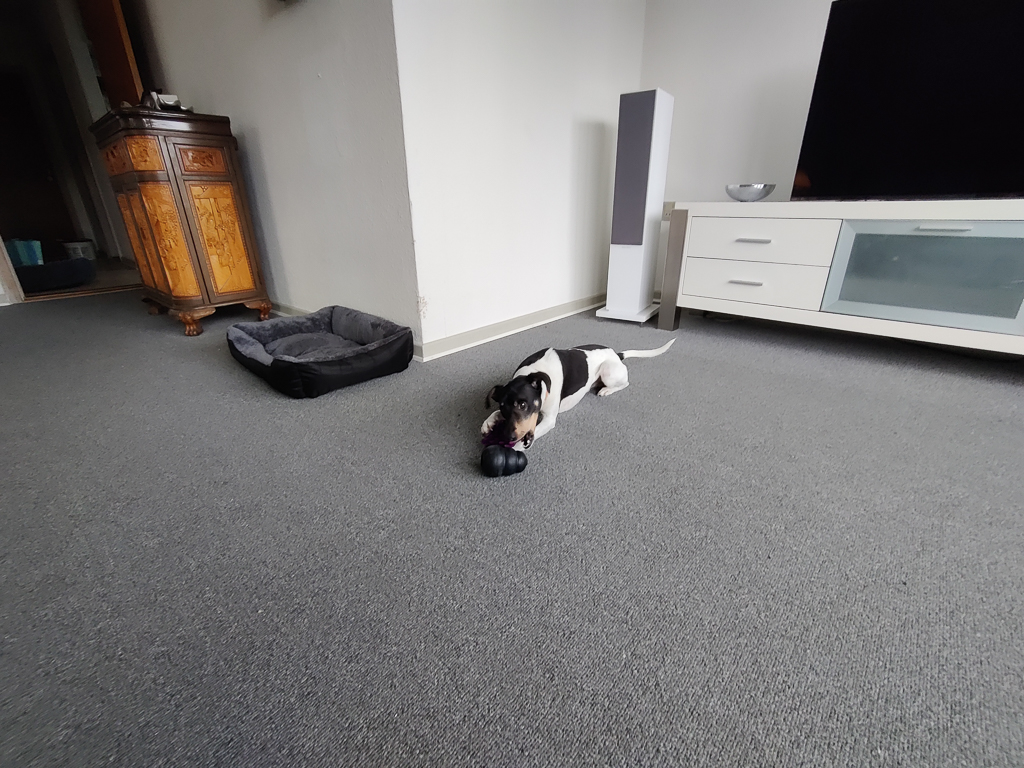Dog: (468, 330, 695, 459)
